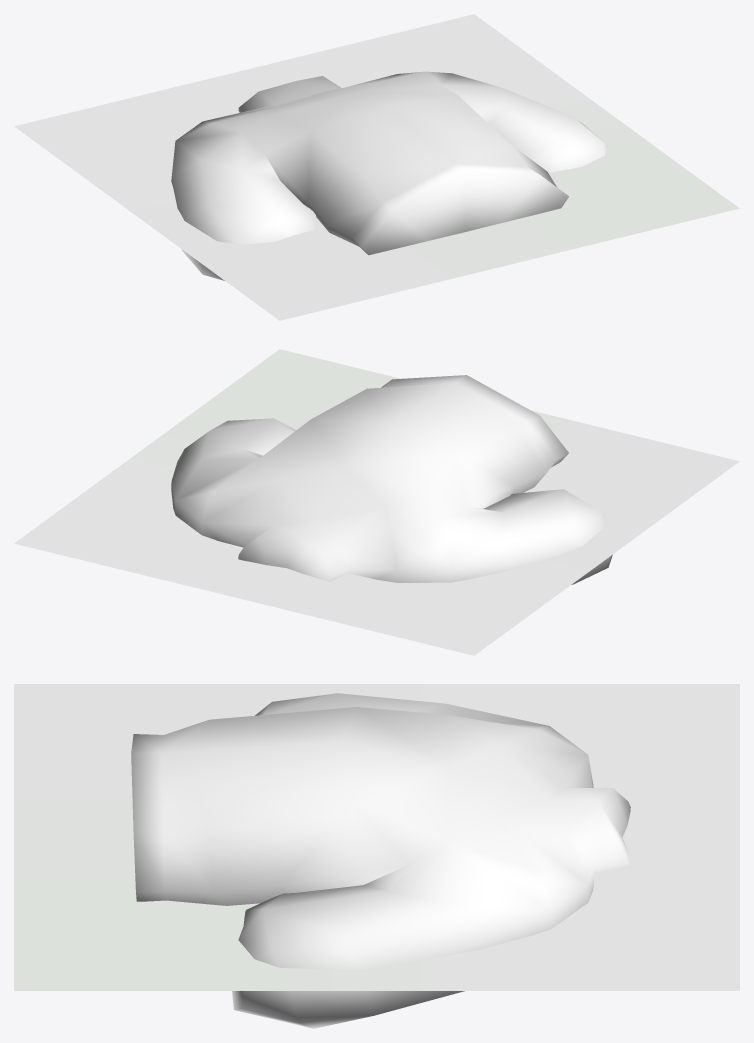
The model's file is ITAR_KM_RM_HAT_02.glb.
3 renders of one model, top to bottom at view 1: azimuth 30°, elevation 25°; view 2: azimuth 150°, elevation 25°; view 3: azimuth 270°, elevation 25°, orthographic. The views are drawn at different scales.
Visible parts, largest first — view 1: Mesh; view 2: Mesh; view 3: Mesh.
Part boxes in pixels (x1,y1,x2,y2): Mesh: [14, 14, 739, 320]; Mesh: [14, 349, 739, 655]; Mesh: [14, 684, 739, 1028].
Size of the model in its own units: 0.7865 by 0.2129 by 0.7865.
Materials: 2 (1 with a texture image).
